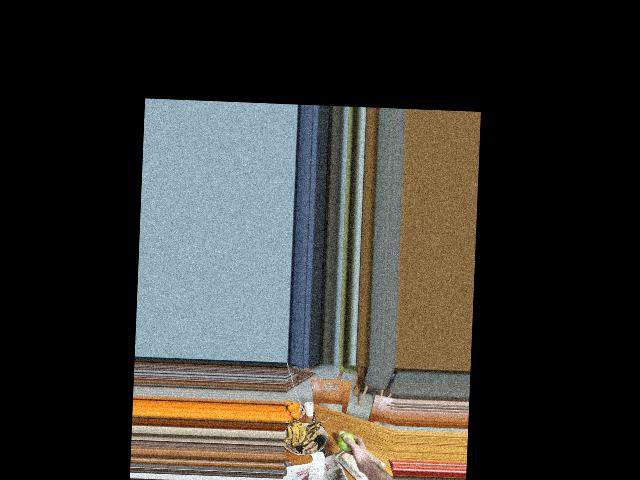apple: (337, 432, 356, 451)
